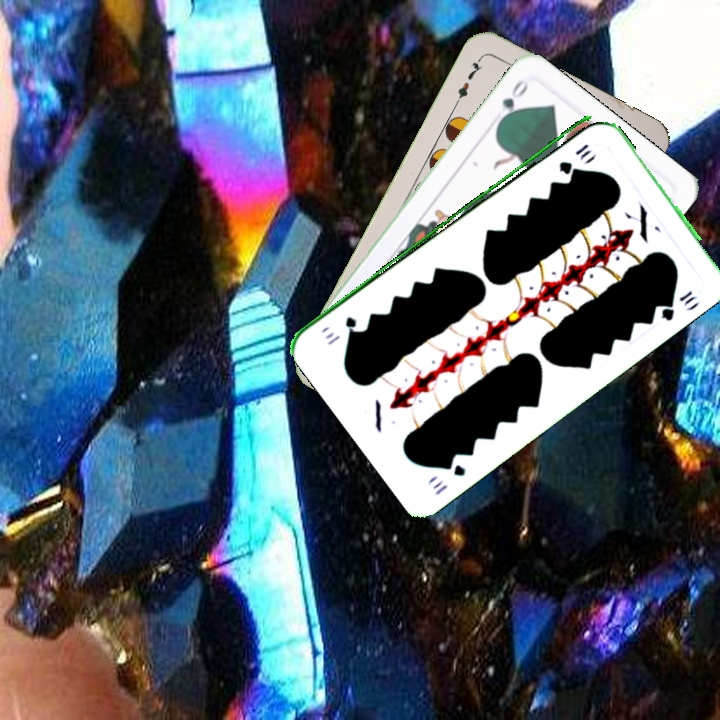E7: (450, 53, 485, 108)
G10: (429, 455, 469, 498), (554, 139, 592, 175)
GO: (493, 75, 531, 128)
